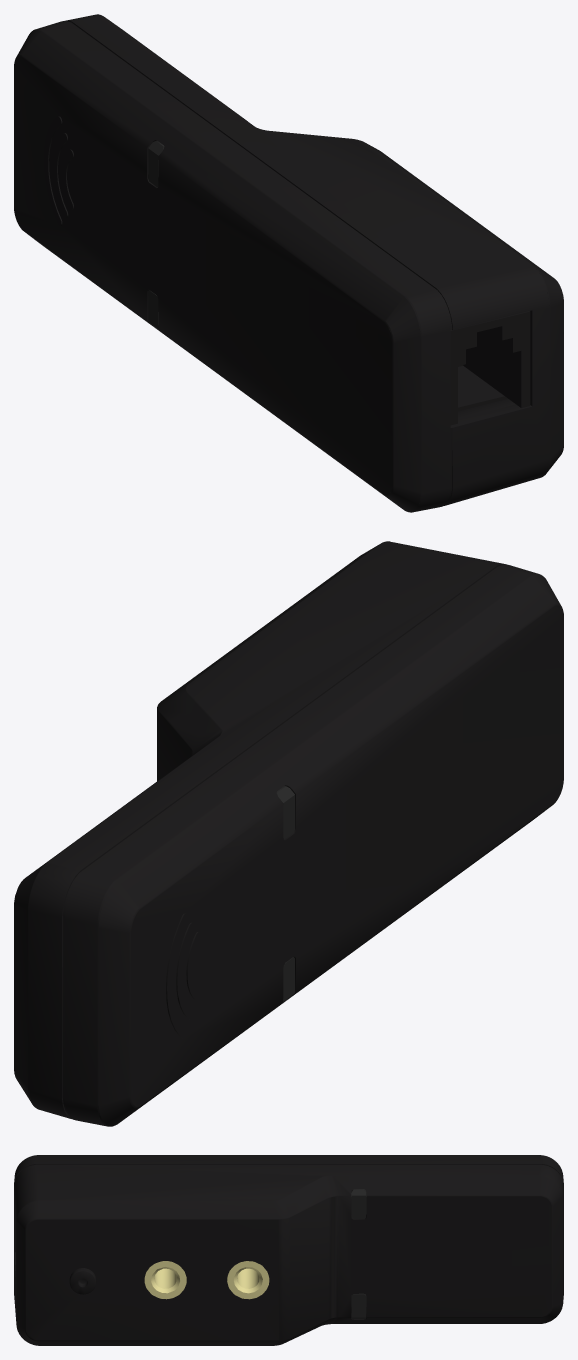
The model's file is V5_Robot_Radio__276-4831_.glb.
3 renders of one model, top to bottom at view 1: azimuth 30°, elevation 25°; view 2: azimuth 150°, elevation 25°; view 3: azimuth 270°, elevation 25°, orthographic. The views are drawn at different scales.
Parts seen in each view (by area): view 1: V5 Robot Radio (276-4831); view 2: V5 Robot Radio (276-4831); view 3: V5 Robot Radio (276-4831).
Boxes of the visible parts, left/top/right/bottom form: V5 Robot Radio (276-4831): left=14, top=14, right=563, bottom=512; V5 Robot Radio (276-4831): left=14, top=541, right=563, bottom=1126; V5 Robot Radio (276-4831): left=14, top=1155, right=563, bottom=1345.
Bounding box in the file's own units: 0.871 × 1 × 3.33.
